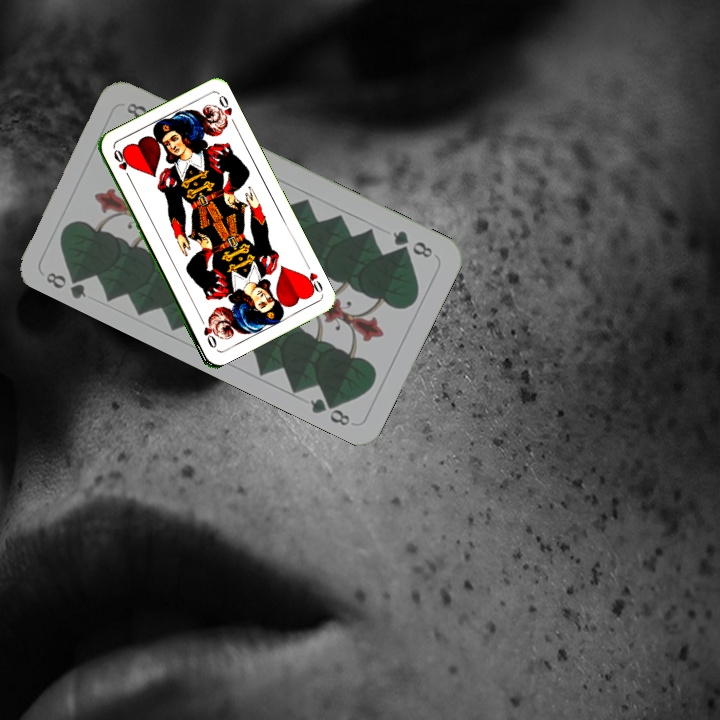G8: (41, 266, 89, 302), (388, 226, 435, 261)
HO: (109, 145, 134, 183), (298, 268, 326, 297)
